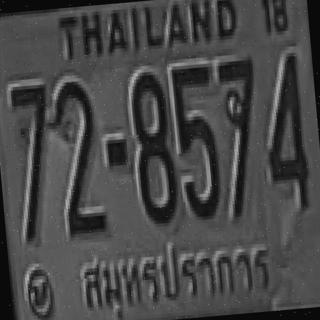N02: (50, 76, 110, 239)
N04: (258, 49, 310, 207)
N05: (170, 63, 222, 218)
N07: (216, 55, 266, 219), (9, 82, 59, 240)
N08: (129, 69, 178, 223)
P57: (74, 232, 279, 320)
